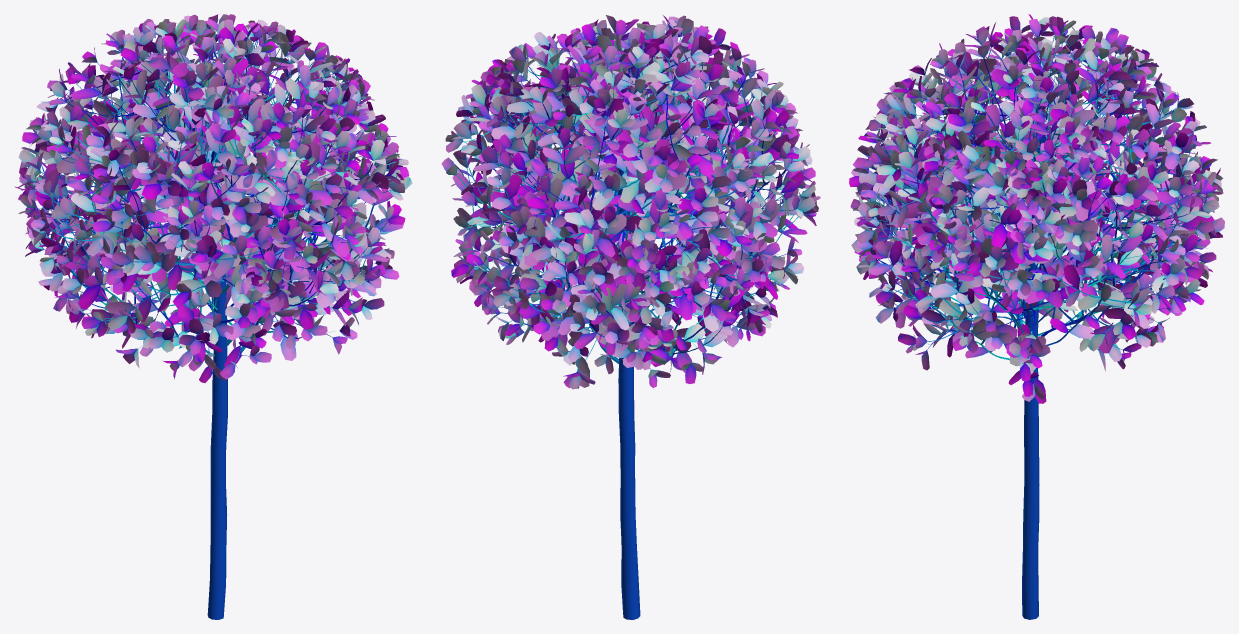
The model's file is Boxwood_wfypfa3ha_Low_wfypfa3ha_VarG_LOD0.fbx.
3 renders of one model, left to right at view 1: azimuth 30°, elevation 25°; view 2: azimuth 150°, elevation 25°; view 3: azimuth 270°, elevation 25°, orthographic. The views are drawn at different scales.
Visible parts, largest first — view 1: _mlut_VarG_LOD2; view 2: _mlut_VarG_LOD2; view 3: _mlut_VarG_LOD2.
Part boxes in pixels (x1,y1,x2,y2): _mlut_VarG_LOD2: (14,14,412,619); _mlut_VarG_LOD2: (441,15,820,619); _mlut_VarG_LOD2: (849,14,1224,619).
Bounding box in the file's own units: 46.75 × 77.72 × 45.89.
